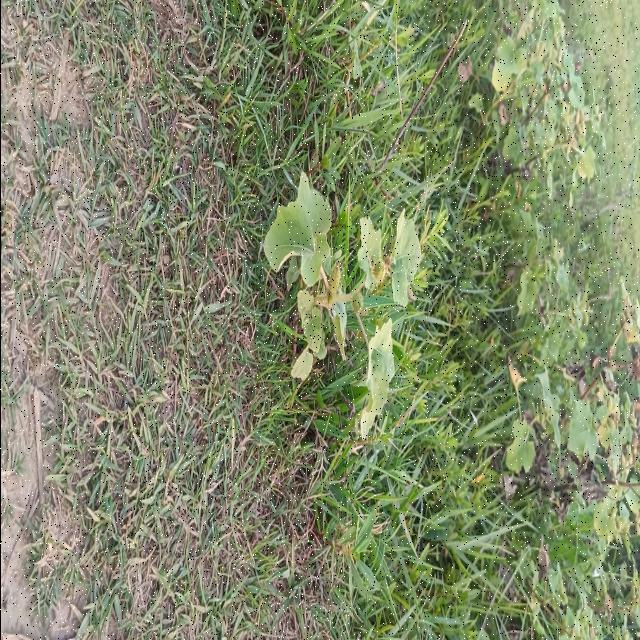plant: (263, 172, 420, 438)
